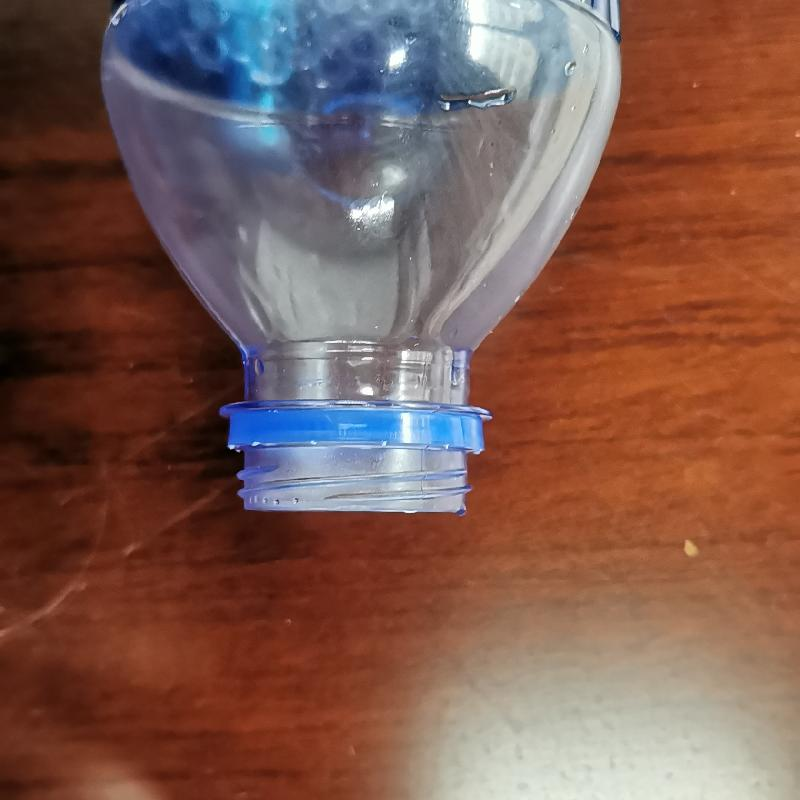bottles: (92, 0, 627, 516)
